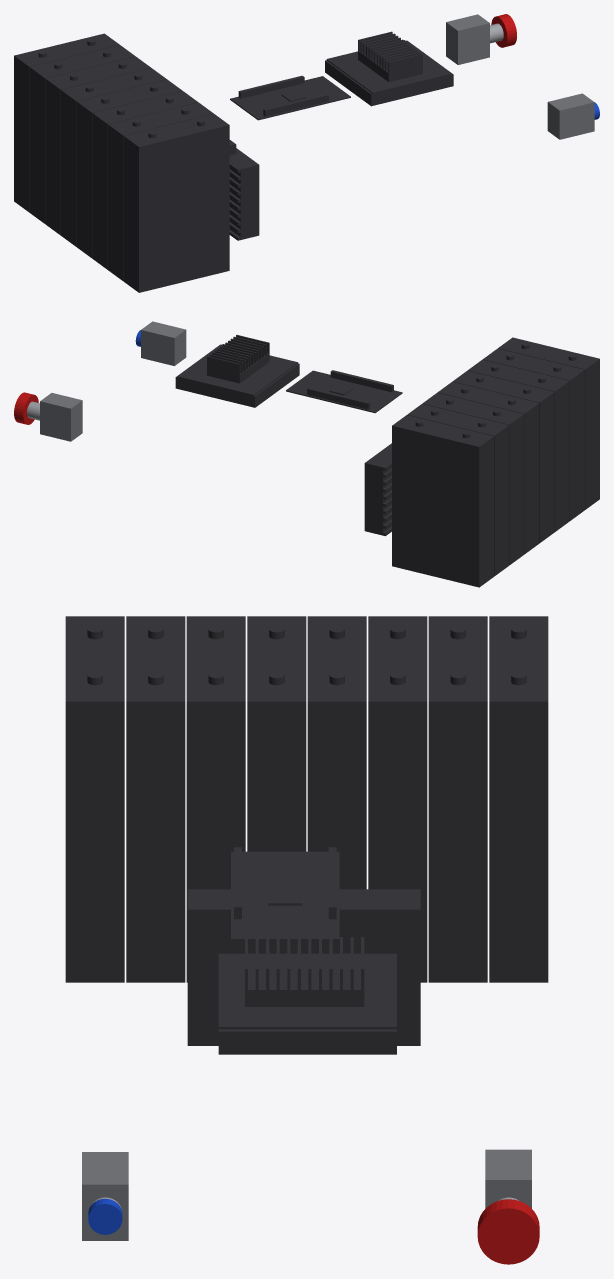
File: base_equipment.dae
3 views of the same model, one above another, from view 1: azimuth 30°, elevation 25°; view 2: azimuth 150°, elevation 25°; view 3: azimuth 270°, elevation 25° (orthographic). The views are drawn at different scales.
Visible parts, largest first — view 1: equipment_node; view 2: equipment_node; view 3: equipment_node.
Part boxes in pixels (<box>): equipment_node: <box>14,14,599,292</box>; equipment_node: <box>14,321,599,587</box>; equipment_node: <box>65,616,548,1264</box>.
Bounding box in the file's own units: 0.696 × 0.311 × 0.2089.
